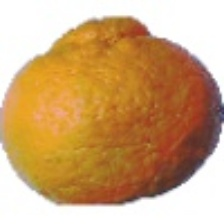tangerine: (18, 29, 175, 194)
